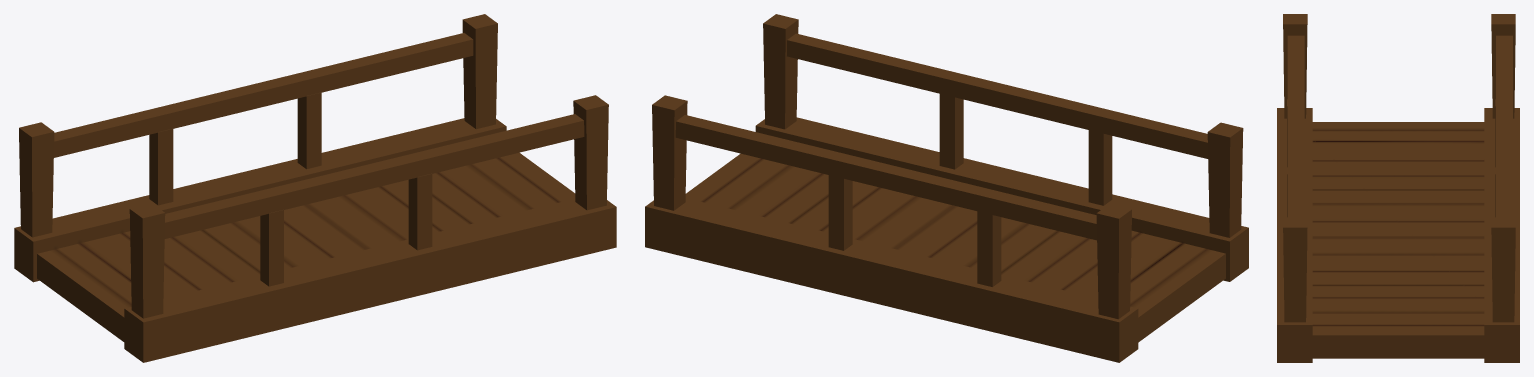
Rendered from Bridge 2.fbx.
The picture shows the model from 3 angles, left to right: view 1: azimuth 30°, elevation 25°; view 2: azimuth 150°, elevation 25°; view 3: azimuth 270°, elevation 25°; orthographic projection. The views are drawn at different scales.
Visible parts, largest first — view 1: Bridge_2; view 2: Bridge_2; view 3: Bridge_2.
Part boxes in pixels (box(x1,y1,x2,y2)): Bridge_2: box(14, 14, 616, 362); Bridge_2: box(645, 14, 1248, 362); Bridge_2: box(1277, 14, 1519, 362).
Size of the model in its own units: 1002 by 287 by 473.
1 material, 1 textured.
